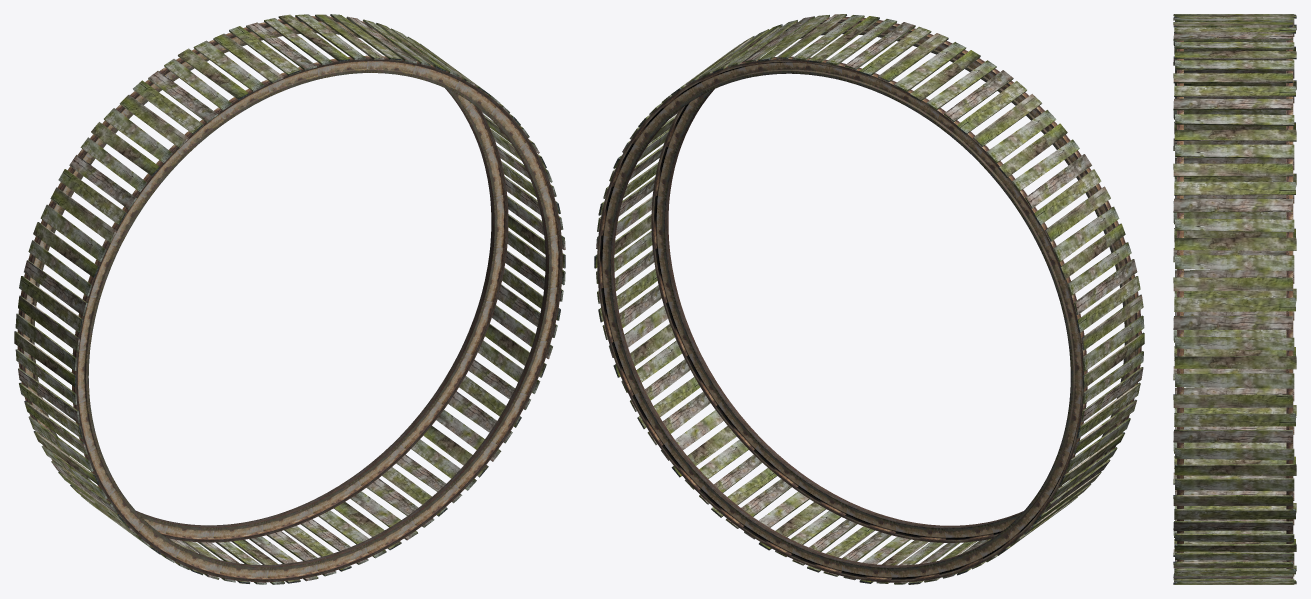
File: wheel.fbx
3 views of the same model, side by side, from view 1: azimuth 30°, elevation 25°; view 2: azimuth 150°, elevation 25°; view 3: azimuth 270°, elevation 25° (orthographic).
Parts seen in each view (by area): view 1: wheel ramp; view 2: wheel ramp; view 3: wheel ramp.
Part boxes in pixels (x1,y1,x2,y2): wheel ramp: (14, 14, 565, 584); wheel ramp: (594, 14, 1144, 584); wheel ramp: (1173, 14, 1296, 584).
Bounding box in the file's own units: 955 × 955 × 206.
1 material, 1 textured.
